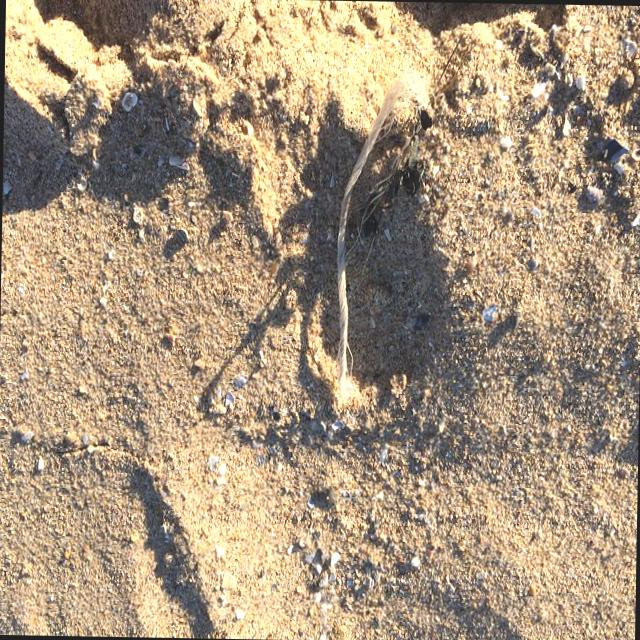Trash: (324, 70, 432, 413)
